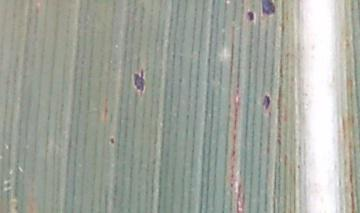tarspot: (131, 67, 147, 97), (260, 1, 276, 17), (260, 91, 271, 112), (246, 9, 255, 23), (108, 136, 115, 146)
